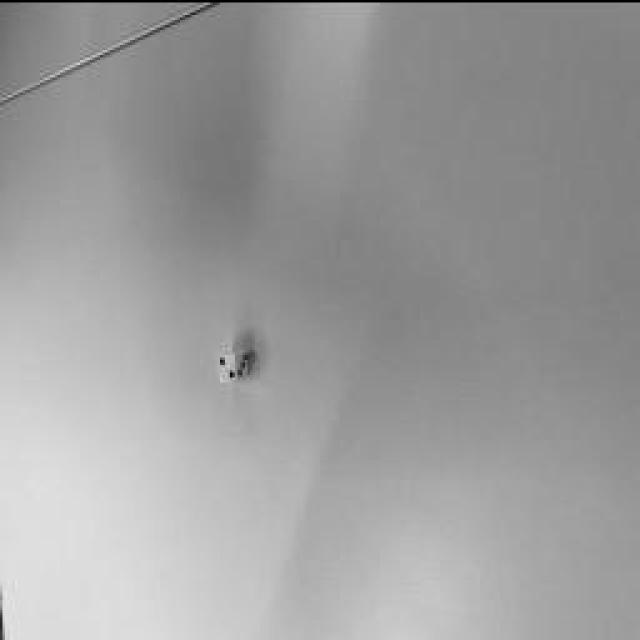dice_2: (219, 351, 236, 379)
